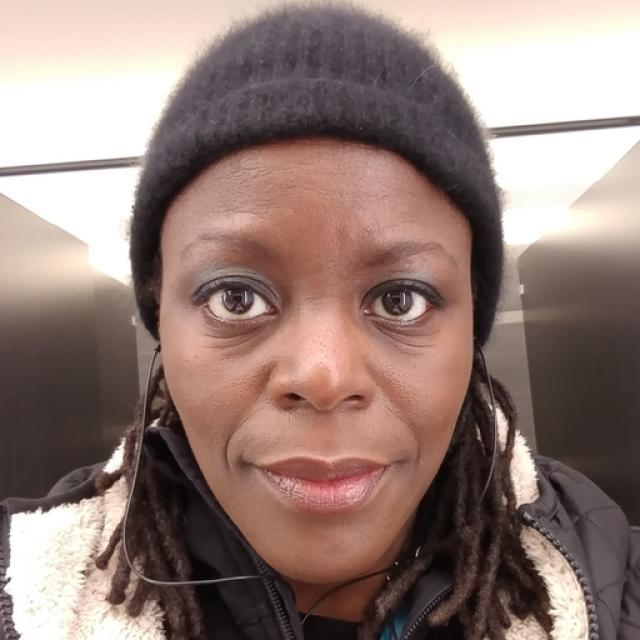content: (162, 137, 474, 584)
